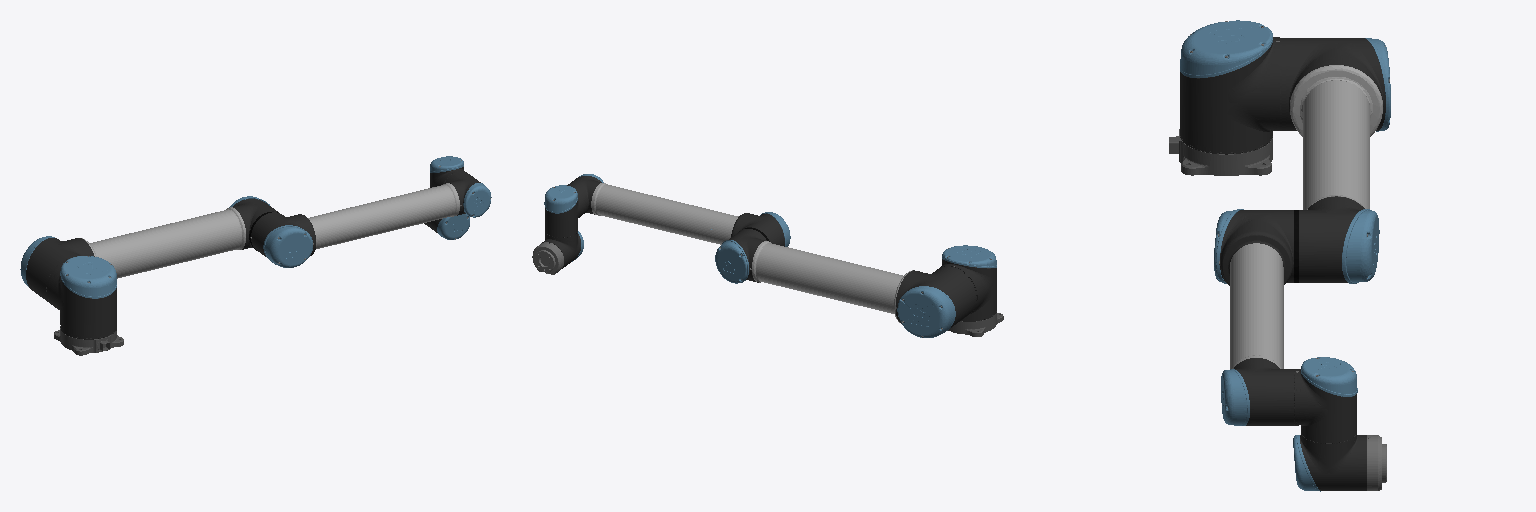
The robot description file, URDF, robot "ur10":
<?xml version='1.0' encoding='utf-8'?>
<robot name="ur10">
  
  
  
  <link name="world" />
  <ros2_control name="ur10" type="system">
    <hardware>
      <plugin>ur_robot_driver/URPositionHardwareInterface</plugin>
      <param name="robot_ip">0.0.0.0</param>
      <param name="script_filename" />
      <param name="output_recipe_filename" />
      <param name="input_recipe_filename" />
      <param name="headless_mode">False</param>
      <param name="reverse_port">50001</param>
      <param name="script_sender_port">50002</param>
      <param name="reverse_ip">0.0.0.0</param>
      <param name="script_command_port">50004</param>
      <param name="trajectory_port">50003</param>
      <param name="tf_prefix" />
      <param name="non_blocking_read">False</param>
      <param name="servoj_gain">2000</param>
      <param name="servoj_lookahead_time">0.03</param>
      <param name="use_tool_communication">False</param>
      <param name="kinematics/hash">calib_17227329492635474227</param>
      <param name="tool_voltage">0</param>
      <param name="tool_parity">0</param>
      <param name="tool_baud_rate">115200</param>
      <param name="tool_stop_bits">1</param>
      <param name="tool_rx_idle_chars">1.5</param>
      <param name="tool_tx_idle_chars">3.5</param>
      <param name="tool_device_name">/tmp/ttyUR</param>
      <param name="tool_tcp_port">54321</param>
      <param name="keep_alive_count">2</param>
    </hardware>
    <joint name="shoulder_pan_joint">
      <command_interface name="position">
        <param name="min">{-2*pi}</param>
        <param name="max">{2*pi}</param>
      </command_interface>
      <command_interface name="velocity">
        <param name="min">-3.15</param>
        <param name="max">3.15</param>
      </command_interface>
      <state_interface name="position">
        
        <param name="initial_value">0.0</param>
      </state_interface>
      <state_interface name="velocity">
        <param name="initial_value">0.0</param>
      </state_interface>
      <state_interface name="effort">
        <param name="initial_value">0.0</param>
      </state_interface>
    </joint>
    <joint name="shoulder_lift_joint">
      <command_interface name="position">
        <param name="min">{-2*pi}</param>
        <param name="max">{2*pi}</param>
      </command_interface>
      <command_interface name="velocity">
        <param name="min">-3.15</param>
        <param name="max">3.15</param>
      </command_interface>
      <state_interface name="position">
        
        <param name="initial_value">-1.57</param>
      </state_interface>
      <state_interface name="velocity">
        <param name="initial_value">0.0</param>
      </state_interface>
      <state_interface name="effort">
        <param name="initial_value">0.0</param>
      </state_interface>
    </joint>
    <joint name="elbow_joint">
      <command_interface name="position">
        <param name="min">{-pi}</param>
        <param name="max">{pi}</param>
      </command_interface>
      <command_interface name="velocity">
        <param name="min">-3.15</param>
        <param name="max">3.15</param>
      </command_interface>
      <state_interface name="position">
        
        <param name="initial_value">0.0</param>
      </state_interface>
      <state_interface name="velocity">
        <param name="initial_value">0.0</param>
      </state_interface>
      <state_interface name="effort">
        <param name="initial_value">0.0</param>
      </state_interface>
    </joint>
    <joint name="wrist_1_joint">
      <command_interface name="position">
        <param name="min">{-2*pi}</param>
        <param name="max">{2*pi}</param>
      </command_interface>
      <command_interface name="velocity">
        <param name="min">-3.2</param>
        <param name="max">3.2</param>
      </command_interface>
      <state_interface name="position">
        
        <param name="initial_value">-1.57</param>
      </state_interface>
      <state_interface name="velocity">
        <param name="initial_value">0.0</param>
      </state_interface>
      <state_interface name="effort">
        <param name="initial_value">0.0</param>
      </state_interface>
    </joint>
    <joint name="wrist_2_joint">
      <command_interface name="position">
        <param name="min">{-2*pi}</param>
        <param name="max">{2*pi}</param>
      </command_interface>
      <command_interface name="velocity">
        <param name="min">-3.2</param>
        <param name="max">3.2</param>
      </command_interface>
      <state_interface name="position">
        
        <param name="initial_value">0.0</param>
      </state_interface>
      <state_interface name="velocity">
        <param name="initial_value">0.0</param>
      </state_interface>
      <state_interface name="effort">
        <param name="initial_value">0.0</param>
      </state_interface>
    </joint>
    <joint name="wrist_3_joint">
      <command_interface name="position">
        <param name="min">{-2*pi}</param>
        <param name="max">{2*pi}</param>
      </command_interface>
      <command_interface name="velocity">
        <param name="min">-3.2</param>
        <param name="max">3.2</param>
      </command_interface>
      <state_interface name="position">
        
        <param name="initial_value">0.0</param>
      </state_interface>
      <state_interface name="velocity">
        <param name="initial_value">0.0</param>
      </state_interface>
      <state_interface name="effort">
        <param name="initial_value">0.0</param>
      </state_interface>
    </joint>
    <sensor name="tcp_fts_sensor">
      <state_interface name="force.x" />
      <state_interface name="force.y" />
      <state_interface name="force.z" />
      <state_interface name="torque.x" />
      <state_interface name="torque.y" />
      <state_interface name="torque.z" />
    </sensor>
    
    <gpio name="speed_scaling">
      <state_interface name="speed_scaling_factor" />
      <param name="initial_speed_scaling_factor">1</param>
      <command_interface name="target_speed_fraction_cmd" />
      <command_interface name="target_speed_fraction_async_success" />
    </gpio>
    <gpio name="gpio">
      <command_interface name="standard_digital_output_cmd_0" />
      <command_interface name="standard_digital_output_cmd_1" />
      <command_interface name="standard_digital_output_cmd_2" />
      <command_interface name="standard_digital_output_cmd_3" />
      <command_interface name="standard_digital_output_cmd_4" />
      <command_interface name="standard_digital_output_cmd_5" />
      <command_interface name="standard_digital_output_cmd_6" />
      <command_interface name="standard_digital_output_cmd_7" />
      <command_interface name="standard_digital_output_cmd_8" />
      <command_interface name="standard_digital_output_cmd_9" />
      <command_interface name="standard_digital_output_cmd_10" />
      <command_interface name="standard_digital_output_cmd_11" />
      <command_interface name="standard_digital_output_cmd_12" />
      <command_interface name="standard_digital_output_cmd_13" />
      <command_interface name="standard_digital_output_cmd_14" />
      <command_interface name="standard_digital_output_cmd_15" />
      <command_interface name="standard_digital_output_cmd_16" />
      <command_interface name="standard_digital_output_cmd_17" />
      <command_interface name="standard_analog_output_cmd_0" />
      <command_interface name="standard_analog_output_cmd_1" />
      <command_interface name="tool_voltage_cmd" />
      <command_interface name="io_async_success" />
      <state_interface name="digital_output_0" />
      <state_interface name="digital_output_1" />
      <state_interface name="digital_output_2" />
      <state_interface name="digital_output_3" />
      <state_interface name="digital_output_4" />
      <state_interface name="digital_output_5" />
      <state_interface name="digital_output_6" />
      <state_interface name="digital_output_7" />
      <state_interface name="digital_output_8" />
      <state_interface name="digital_output_9" />
      <state_interface name="digital_output_10" />
      <state_interface name="digital_output_11" />
      <state_interface name="digital_output_12" />
      <state_interface name="digital_output_13" />
      <state_interface name="digital_output_14" />
      <state_interface name="digital_output_15" />
      <state_interface name="digital_output_16" />
      <state_interface name="digital_output_17" />
      <state_interface name="digital_input_0" />
      <state_interface name="digital_input_1" />
      <state_interface name="digital_input_2" />
      <state_interface name="digital_input_3" />
      <state_interface name="digital_input_4" />
      <state_interface name="digital_input_5" />
      <state_interface name="digital_input_6" />
      <state_interface name="digital_input_7" />
      <state_interface name="digital_input_8" />
      <state_interface name="digital_input_9" />
      <state_interface name="digital_input_10" />
      <state_interface name="digital_input_11" />
      <state_interface name="digital_input_12" />
      <state_interface name="digital_input_13" />
      <state_interface name="digital_input_14" />
      <state_interface name="digital_input_15" />
      <state_interface name="digital_input_16" />
      <state_interface name="digital_input_17" />
      <state_interface name="standard_analog_output_0" />
      <state_interface name="standard_analog_output_1" />
      <state_interface name="standard_analog_input_0" />
      <state_interface name="standard_analog_input_1" />
      <state_interface name="analog_io_type_0" />
      <state_interface name="analog_io_type_1" />
      <state_interface name="analog_io_type_2" />
      <state_interface name="analog_io_type_3" />
      <state_interface name="tool_mode" />
      <state_interface name="tool_output_voltage" />
      <state_interface name="tool_output_current" />
      <state_interface name="tool_temperature" />
      <state_interface name="tool_analog_input_0" />
      <state_interface name="tool_analog_input_1" />
      <state_interface name="tool_analog_input_type_0" />
      <state_interface name="tool_analog_input_type_1" />
      <state_interface name="robot_mode" />
      <state_interface name="robot_status_bit_0" />
      <state_interface name="robot_status_bit_1" />
      <state_interface name="robot_status_bit_2" />
      <state_interface name="robot_status_bit_3" />
      <state_interface name="safety_mode" />
      <state_interface name="safety_status_bit_0" />
      <state_interface name="safety_status_bit_1" />
      <state_interface name="safety_status_bit_2" />
      <state_interface name="safety_status_bit_3" />
      <state_interface name="safety_status_bit_4" />
      <state_interface name="safety_status_bit_5" />
      <state_interface name="safety_status_bit_6" />
      <state_interface name="safety_status_bit_7" />
      <state_interface name="safety_status_bit_8" />
      <state_interface name="safety_status_bit_9" />
      <state_interface name="safety_status_bit_10" />
      <state_interface name="program_running" />
    </gpio>
    <gpio name="payload">
      <command_interface name="mass" />
      <command_interface name="cog.x" />
      <command_interface name="cog.y" />
      <command_interface name="cog.z" />
      <command_interface name="payload_async_success" />
    </gpio>
    <gpio name="resend_robot_program">
      <command_interface name="resend_robot_program_cmd" />
      <command_interface name="resend_robot_program_async_success" />
    </gpio>
    <gpio name="hand_back_control">
      <command_interface name="hand_back_control_cmd" />
      <command_interface name="hand_back_control_async_success" />
    </gpio>
    <gpio name="zero_ftsensor">
      <command_interface name="zero_ftsensor_cmd" />
      <command_interface name="zero_ftsensor_async_success" />
    </gpio>
    <gpio name="force_mode">
      <command_interface name="task_frame_x" />
      <command_interface name="task_frame_y" />
      <command_interface name="task_frame_z" />
      <command_interface name="task_frame_rx" />
      <command_interface name="task_frame_ry" />
      <command_interface name="task_frame_rz" />
      <command_interface name="selection_vector_x" />
      <command_interface name="selection_vector_y" />
      <command_interface name="selection_vector_z" />
      <command_interface name="selection_vector_rx" />
      <command_interface name="selection_vector_ry" />
      <command_interface name="selection_vector_rz" />
      <command_interface name="wrench_x" />
      <command_interface name="wrench_y" />
      <command_interface name="wrench_z" />
      <command_interface name="wrench_rx" />
      <command_interface name="wrench_ry" />
      <command_interface name="wrench_rz" />
      <command_interface name="limits_x" />
      <command_interface name="limits_y" />
      <command_interface name="limits_z" />
      <command_interface name="limits_rx" />
      <command_interface name="limits_ry" />
      <command_interface name="limits_rz" />
      <command_interface name="type" />
      <command_interface name="disable_cmd" />
      <command_interface name="force_mode_async_success" />
      <command_interface name="damping" />
      <command_interface name="gain_scaling" />
    </gpio>
    <gpio name="system_interface">
      <state_interface name="initialized" />
    </gpio>
  </ros2_control>
  
  
  
  
  <link name="base_link" />
  <link name="base_link_inertia">
    <visual>
      <origin rpy="0 0 3.141592653589793" xyz="0 0 0" />
      <geometry>
        <mesh filename="meshes/base.dae" />
      </geometry>
    </visual>
    <collision>
      <origin rpy="0 0 3.141592653589793" xyz="0 0 0" />
      <geometry>
        <mesh filename="meshes/base.stl" />
      </geometry>
    </collision>
    <inertial>
      <mass value="4.0" />
      <origin rpy="0 0 0" xyz="0 0 0" />
      <inertia ixx="0.0061063308908" ixy="0.0" ixz="0.0" iyy="0.0061063308908" iyz="0.0" izz="0.01125" />
    </inertial>
  </link>
  <link name="shoulder_link">
    <visual>
      <origin rpy="0 0 3.141592653589793" xyz="0 0 0" />
      <geometry>
        <mesh filename="meshes/shoulder.dae" />
      </geometry>
    </visual>
    <collision>
      <origin rpy="0 0 3.141592653589793" xyz="0 0 0" />
      <geometry>
        <mesh filename="meshes/shoulder.stl" />
      </geometry>
    </collision>
    <inertial>
      <mass value="7.778" />
      <origin rpy="0 0 0" xyz="0 0 0" />
      <inertia ixx="0.03147431257693659" ixy="0.0" ixz="0.0" iyy="0.03147431257693659" iyz="0.0" izz="0.021875624999999996" />
    </inertial>
  </link>
  <link name="upper_arm_link">
    <visual>
      <origin rpy="1.5707963267948966 0 -1.5707963267948966" xyz="0 0 0.220941" />
      <geometry>
        <mesh filename="meshes/upperarm.dae" />
      </geometry>
    </visual>
    <collision>
      <origin rpy="1.5707963267948966 0 -1.5707963267948966" xyz="0 0 0.220941" />
      <geometry>
        <mesh filename="meshes/upperarm.stl" />
      </geometry>
    </collision>
    <inertial>
      <mass value="12.93" />
      <origin rpy="0 1.5707963267948966 0" xyz="-0.306 0.0 0.175" />
      <inertia ixx="0.42175380379841093" ixy="0.0" ixz="0.0" iyy="0.42175380379841093" iyz="0.0" izz="0.03636562499999999" />
    </inertial>
  </link>
  <link name="forearm_link">
    <visual>
      <origin rpy="1.5707963267948966 0 -1.5707963267948966" xyz="0 0 0.049042" />
      <geometry>
        <mesh filename="meshes/forearm.dae" />
      </geometry>
    </visual>
    <collision>
      <origin rpy="1.5707963267948966 0 -1.5707963267948966" xyz="0 0 0.049042" />
      <geometry>
        <mesh filename="meshes/forearm.stl" />
      </geometry>
    </collision>
    <inertial>
      <mass value="3.87" />
      <origin rpy="0 1.5707963267948966 0" xyz="-0.28615 0.0 0.049042" />
      <inertia ixx="0.11106969409710458" ixy="0.0" ixz="0.0" iyy="0.11106969409710458" iyz="0.0" izz="0.010884375" />
    </inertial>
  </link>
  <link name="wrist_1_link">
    <visual>
      <origin rpy="1.5707963267948966 0 0" xyz="0 0 -0.1149" />
      <geometry>
        <mesh filename="meshes/wrist1.dae" />
      </geometry>
    </visual>
    <collision>
      <origin rpy="1.5707963267948966 0 0" xyz="0 0 -0.1149" />
      <geometry>
        <mesh filename="meshes/wrist1.stl" />
      </geometry>
    </collision>
    <inertial>
      <mass value="1.96" />
      <origin rpy="0 0 0" xyz="0 0 0" />
      <inertia ixx="0.005108247956699999" ixy="0.0" ixz="0.0" iyy="0.005108247956699999" iyz="0.0" izz="0.005512499999999999" />
    </inertial>
  </link>
  <link name="wrist_2_link">
    <visual>
      <origin rpy="0 0 0" xyz="0 0 -0.1158" />
      <geometry>
        <mesh filename="meshes/wrist2.dae" />
      </geometry>
    </visual>
    <collision>
      <origin rpy="0 0 0" xyz="0 0 -0.1158" />
      <geometry>
        <mesh filename="meshes/wrist2.stl" />
      </geometry>
    </collision>
    <inertial>
      <mass value="1.96" />
      <origin rpy="0 0 0" xyz="0 0 0" />
      <inertia ixx="0.0040792483683" ixy="0.0" ixz="0.0" iyy="0.0040792483683" iyz="0.0" izz="0.005512499999999999" />
    </inertial>
  </link>
  <link name="wrist_3_link">
    <visual>
      <origin rpy="1.5707963267948966 0 0" xyz="0 0 -0.0922" />
      <geometry>
        <mesh filename="meshes/wrist3.dae" />
      </geometry>
    </visual>
    <collision>
      <origin rpy="1.5707963267948966 0 0" xyz="0 0 -0.0922" />
      <geometry>
        <mesh filename="meshes/wrist3.stl" />
      </geometry>
    </collision>
    <inertial>
      <mass value="0.202" />
      <origin rpy="0 0 0" xyz="0.0 0.0 -0.01525" />
      <inertia ixx="0.00011792166116465" ixy="0.0" ixz="0.0" iyy="0.00011792166116465" iyz="0.0" izz="0.00020452500000000002" />
    </inertial>
  </link>
  
  <joint name="base_joint" type="fixed">
    <origin rpy="0 0 0" xyz="0 0 0" />
    <parent link="world" />
    <child link="base_link" />
  </joint>
  
  <joint name="base_link-base_link_inertia" type="fixed">
    <parent link="base_link" />
    <child link="base_link_inertia" />
    
    <origin rpy="0 0 3.141592653589793" xyz="0 0 0" />
  </joint>
  <joint name="shoulder_pan_joint" type="revolute">
    <parent link="base_link_inertia" />
    <child link="shoulder_link" />
    <origin rpy="0 0 0" xyz="0 0 0.1273" />
    <axis xyz="0 0 1" />
    <limit effort="330.0" lower="-6.283185307179586" upper="6.283185307179586" velocity="2.0943951023931953" />
    <dynamics damping="0" friction="0" />
  </joint>
  <joint name="shoulder_lift_joint" type="revolute">
    <parent link="shoulder_link" />
    <child link="upper_arm_link" />
    <origin rpy="1.570796327 0 0" xyz="0 0 0" />
    <axis xyz="0 0 1" />
    <limit effort="330.0" lower="-6.283185307179586" upper="6.283185307179586" velocity="2.0943951023931953" />
    <dynamics damping="0" friction="0" />
  </joint>
  <joint name="elbow_joint" type="revolute">
    <parent link="upper_arm_link" />
    <child link="forearm_link" />
    <origin rpy="0 0 0" xyz="-0.612 0 0" />
    <axis xyz="0 0 1" />
    <limit effort="150.0" lower="-3.141592653589793" upper="3.141592653589793" velocity="3.141592653589793" />
    <dynamics damping="0" friction="0" />
  </joint>
  <joint name="wrist_1_joint" type="revolute">
    <parent link="forearm_link" />
    <child link="wrist_1_link" />
    <origin rpy="0 0 0" xyz="-0.5723 0 0.163941" />
    <axis xyz="0 0 1" />
    <limit effort="56.0" lower="-6.283185307179586" upper="6.283185307179586" velocity="3.141592653589793" />
    <dynamics damping="0" friction="0" />
  </joint>
  <joint name="wrist_2_joint" type="revolute">
    <parent link="wrist_1_link" />
    <child link="wrist_2_link" />
    <origin rpy="1.570796327 0 0" xyz="0 -0.1157 -2.373046667922381e-11" />
    <axis xyz="0 0 1" />
    <limit effort="56.0" lower="-6.283185307179586" upper="6.283185307179586" velocity="3.141592653589793" />
    <dynamics damping="0" friction="0" />
  </joint>
  <joint name="wrist_3_joint" type="revolute">
    <parent link="wrist_2_link" />
    <child link="wrist_3_link" />
    <origin rpy="1.570796326589793 3.141592653589793 3.141592653589793" xyz="0 0.0922 -1.891053610911353e-11" />
    <axis xyz="0 0 1" />
    <limit effort="56.0" lower="-6.283185307179586" upper="6.283185307179586" velocity="3.141592653589793" />
    <dynamics damping="0" friction="0" />
  </joint>
  <link name="ft_frame" />
  <joint name="wrist_3_link-ft_frame" type="fixed">
    <parent link="wrist_3_link" />
    <child link="ft_frame" />
    <origin rpy="3.141592653589793 0 0" xyz="0 0 0" />
  </joint>
  
  <link name="base" />
  <joint name="base_link-base_fixed_joint" type="fixed">
    
    <origin rpy="0 0 3.141592653589793" xyz="0 0 0" />
    <parent link="base_link" />
    <child link="base" />
  </joint>
  
  <link name="flange" />
  <joint name="wrist_3-flange" type="fixed">
    <parent link="wrist_3_link" />
    <child link="flange" />
    <origin rpy="0 -1.5707963267948966 -1.5707963267948966" xyz="0 0 0" />
  </joint>
  
  <link name="tool0" />
  <joint name="flange-tool0" type="fixed">
    
    <origin rpy="1.5707963267948966 0 1.5707963267948966" xyz="0 0 0" />
    <parent link="flange" />
    <child link="tool0" />
  </joint>
</robot>

--- Render facts (derived) ---
The picture shows the robot from 3 angles, left to right: view 1: azimuth 30°, elevation 25°; view 2: azimuth 150°, elevation 25°; view 3: azimuth 270°, elevation 25°; orthographic projection.
Model ur10 with 13 links and 12 joints (6 revolute, 6 fixed), rooted at world, posed all joints at 0.
Links seen in each view (by area): view 1: upper_arm_link, forearm_link, shoulder_link, base_link_inertia, wrist_2_link, wrist_1_link; view 2: upper_arm_link, forearm_link, shoulder_link, wrist_1_link, wrist_3_link, wrist_2_link, base_link_inertia; view 3: upper_arm_link, forearm_link, shoulder_link, wrist_1_link, wrist_2_link, base_link_inertia, wrist_3_link.
Boxes of the visible links, x1,y1,x2,y2 form: upper_arm_link: (20,196,278,304); forearm_link: (249,171,491,267); shoulder_link: (48,256,116,339); base_link_inertia: (54,328,123,355); wrist_2_link: (424,214,469,239); wrist_1_link: (430,156,463,187); upper_arm_link: (711,229,976,337); forearm_link: (567,174,790,246); shoulder_link: (940,245,996,321); wrist_1_link: (544,185,585,237); wrist_3_link: (532,242,563,274); wrist_2_link: (542,231,583,268); base_link_inertia: (948,313,1003,336); upper_arm_link: (1280,38,1390,283); forearm_link: (1214,209,1298,425); shoulder_link: (1180,20,1279,154); wrist_1_link: (1295,357,1357,443); wrist_2_link: (1293,435,1366,491); base_link_inertia: (1169,129,1272,175); wrist_3_link: (1367,435,1386,490).
Bounding box of the posed robot: 1.31 × 0.3552 × 0.2634 m (x, y, z).
Meshes: 7 distinct files referenced, 7 mesh visuals loaded (7 Collada DAE).
